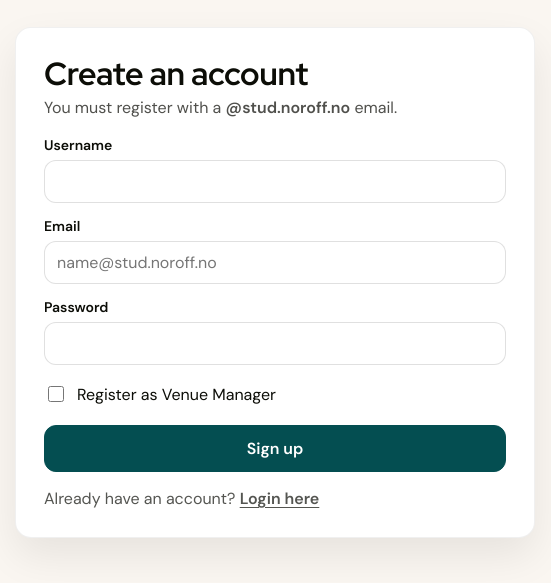
Register page › shows password validation error for short password
Type "Veronica" into the field labelled "Username" at {"x": 275, "y": 182}, box [44,160,506,203]
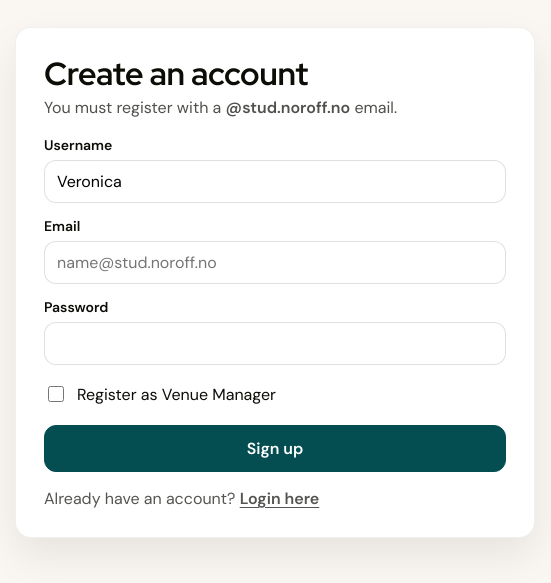
Type "student@stud.noroff.no" into the field labelled "Email" at {"x": 275, "y": 263}, box [44,241,506,284]
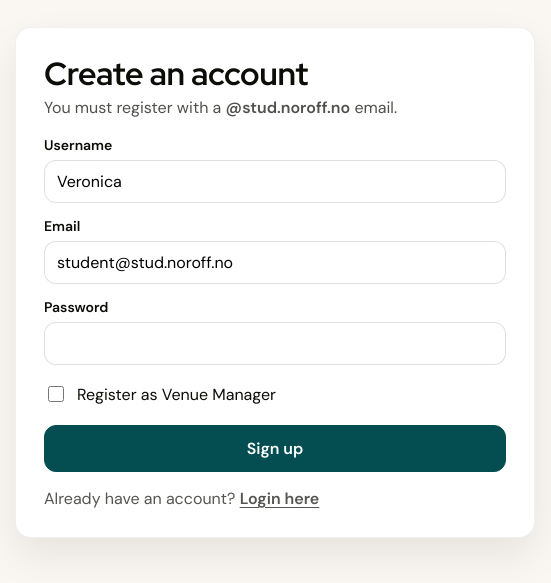
Type "short" into the password field labelled "Password" at {"x": 275, "y": 344}, box [44,322,506,365]
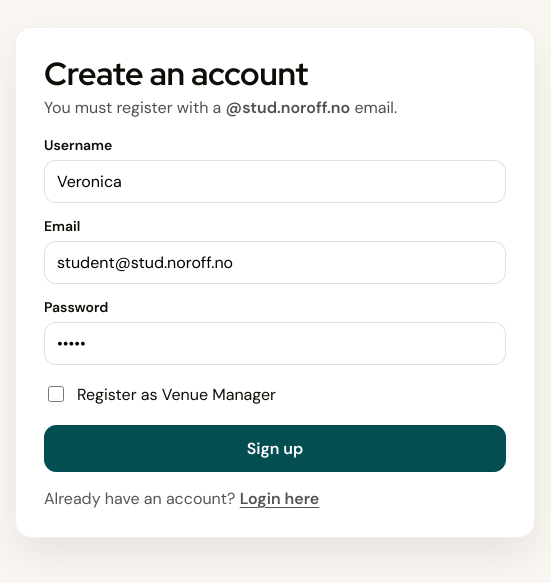
Click the button "Sign up" at {"x": 275, "y": 449}, box [44,425,506,472]
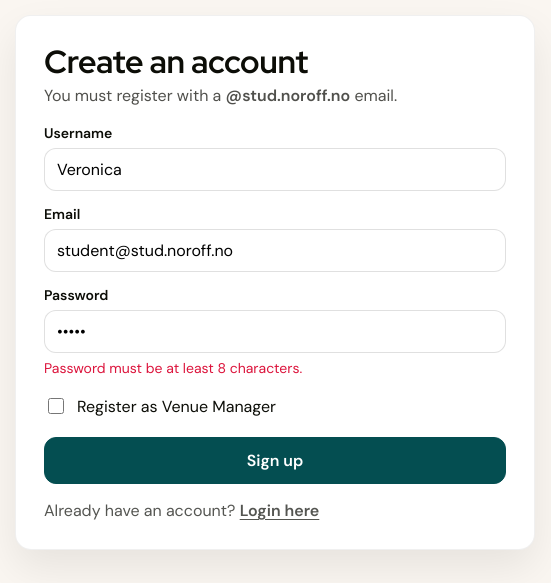
Expected: the text "Password must be at least 8 characters." is shown, [44,359,302,377]
